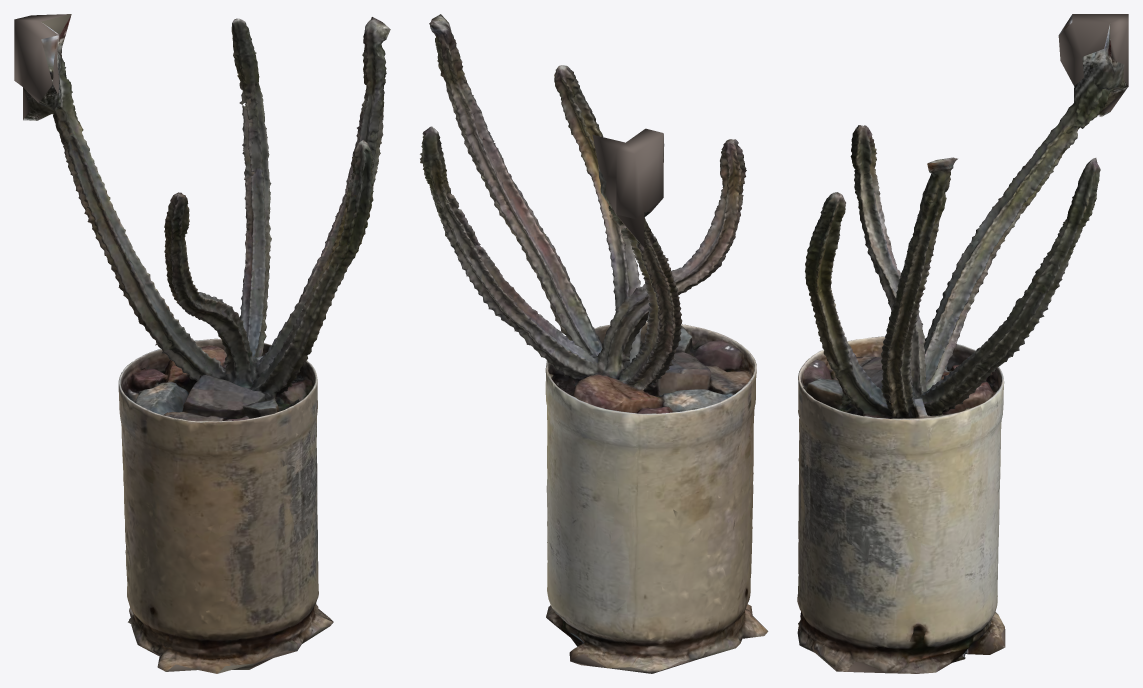
Rendered from AnotherCactus.glb.
3 views of the same model, side by side, from view 1: azimuth 30°, elevation 25°; view 2: azimuth 150°, elevation 25°; view 3: azimuth 270°, elevation 25° (orthographic). The views are drawn at different scales.
Parts seen in each view (by area): view 1: Cactustres; view 2: Cactustres; view 3: Cactustres.
Boxes of the visible parts, left/top/right/bottom form: Cactustres: left=14, top=14, right=390, bottom=673; Cactustres: left=420, top=14, right=768, bottom=673; Cactustres: left=797, top=14, right=1128, bottom=673.
Bounding box in the file's own units: 0.2483 × 0.4719 × 0.2438.
Materials: 1 (1 with a texture image).
